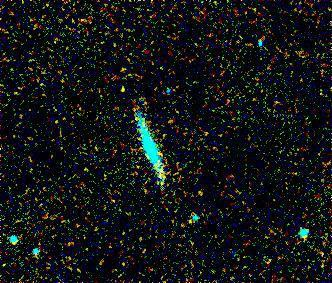star: (111, 79, 141, 109)
